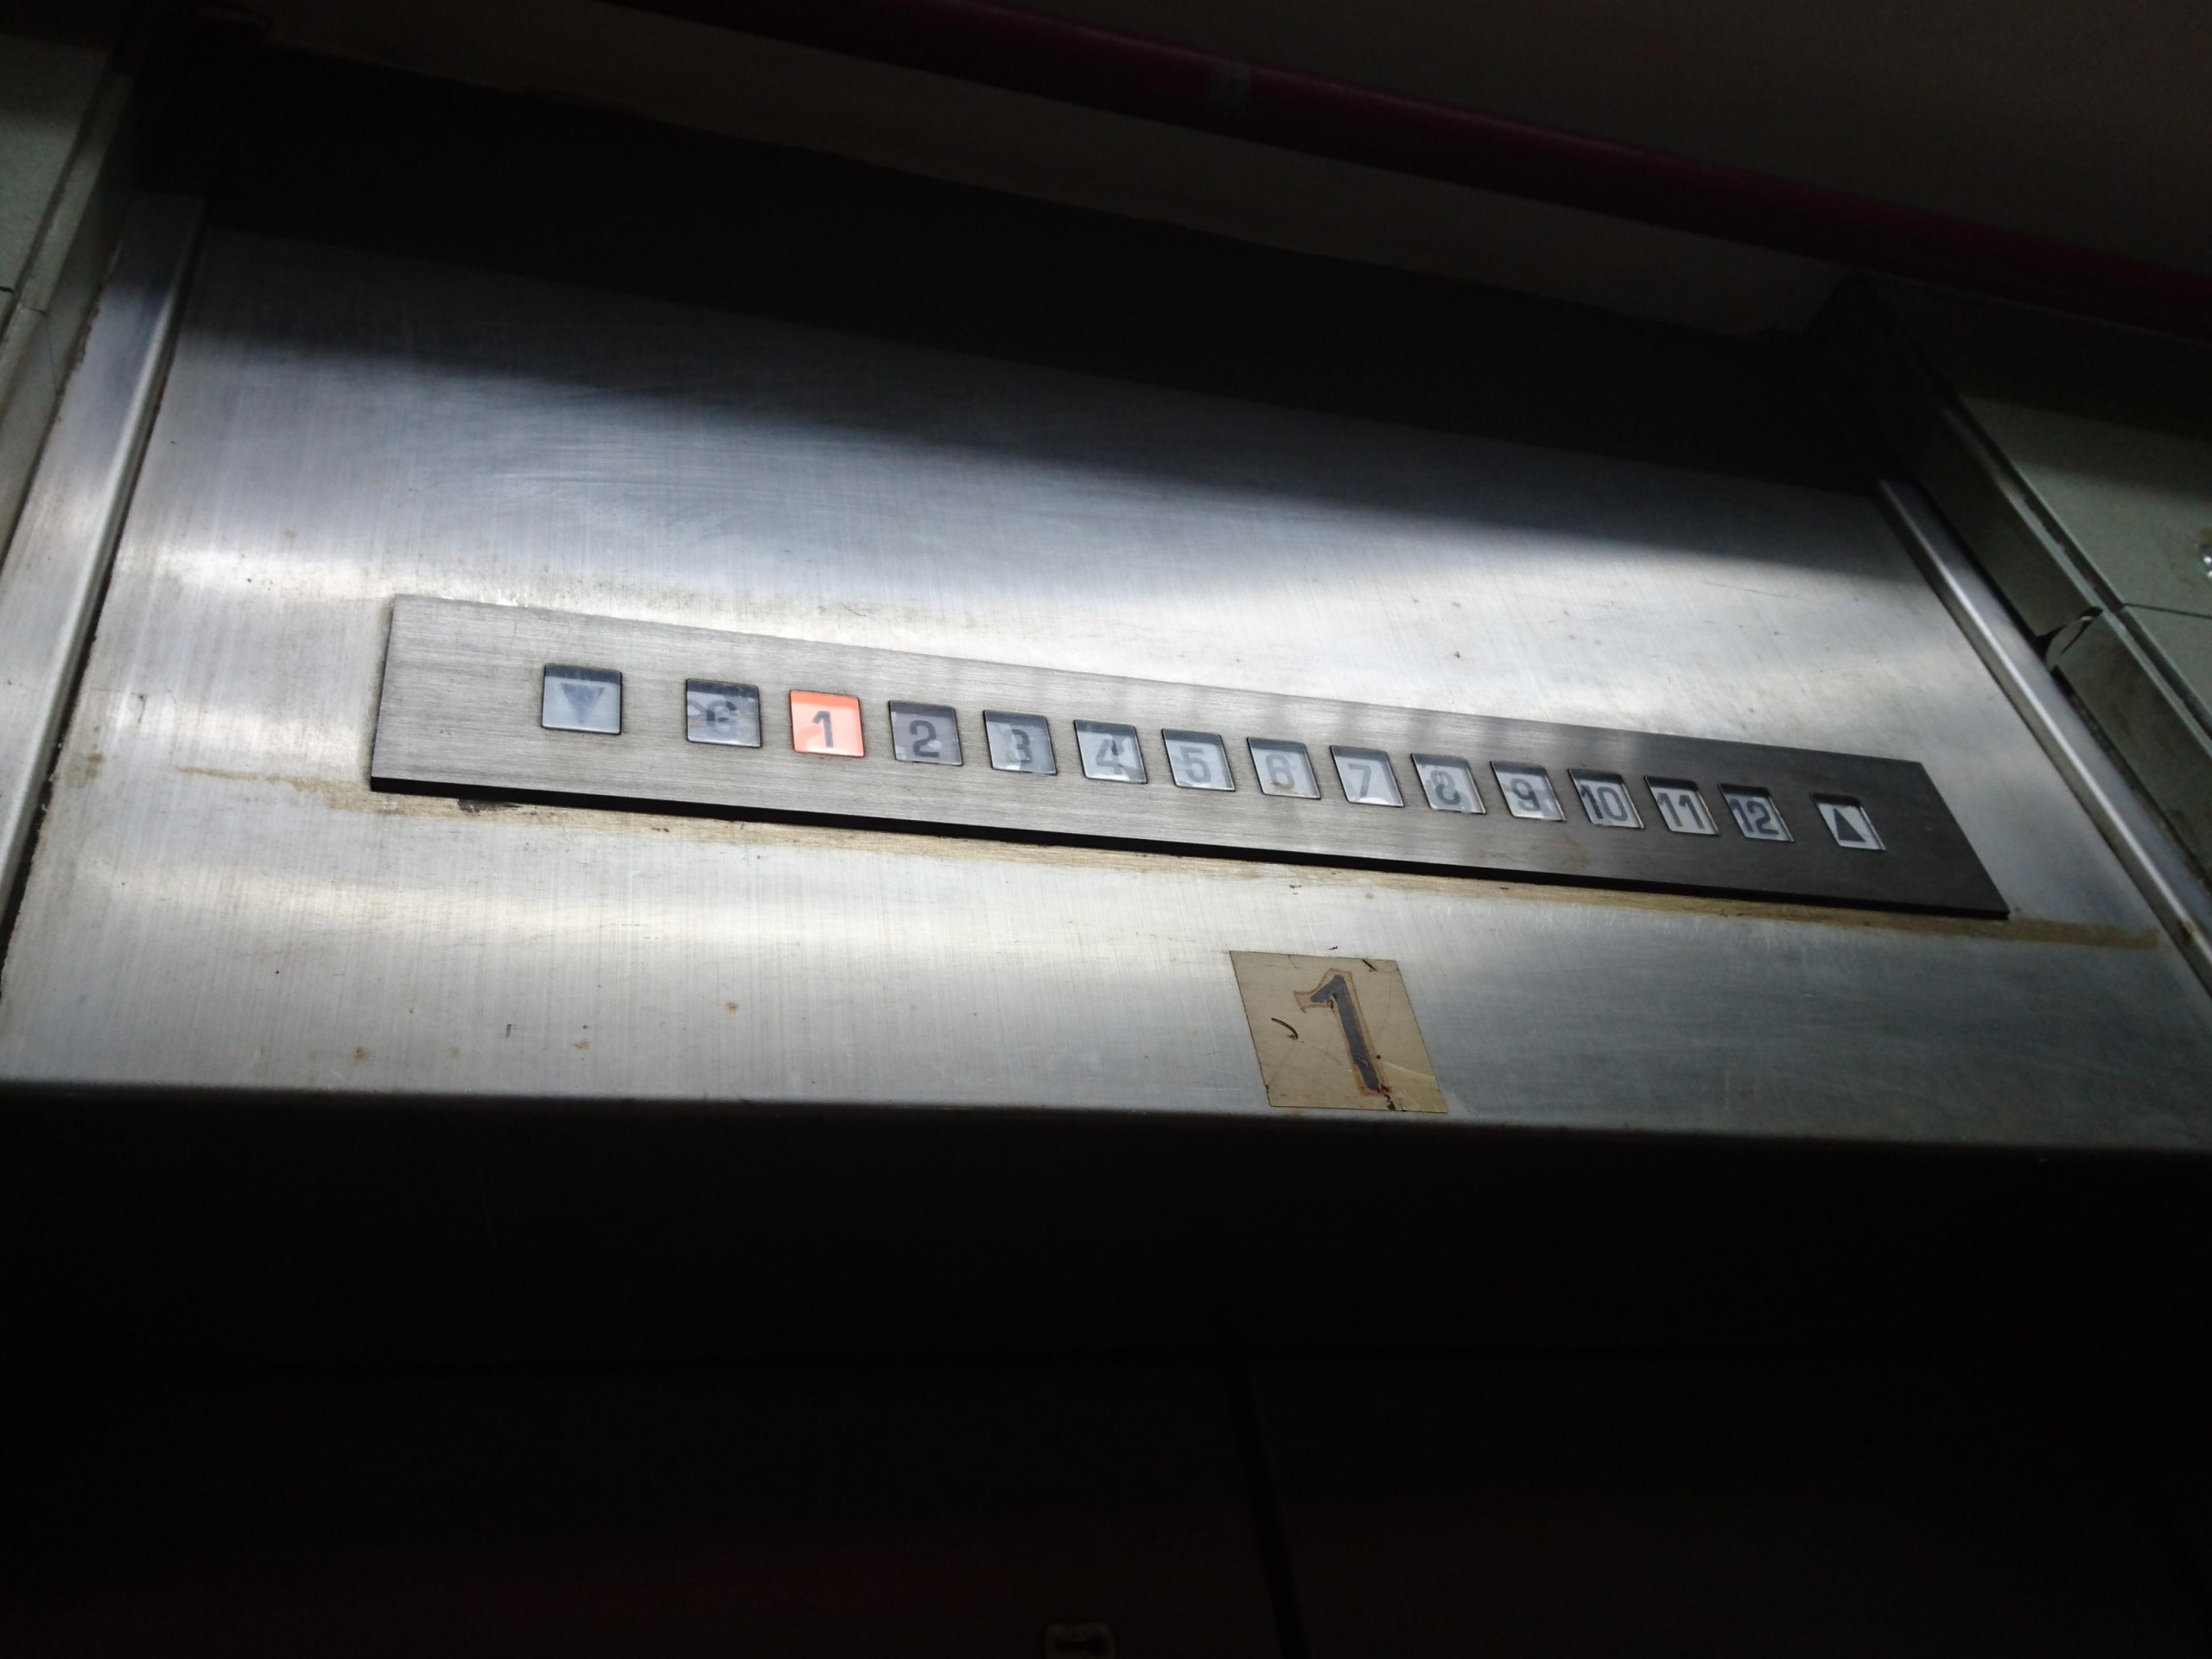1: (784, 683, 867, 763)
10: (1566, 763, 1644, 833)
11: (1644, 770, 1721, 840)
12: (1719, 779, 1797, 845)
2: (885, 695, 967, 774)
3: (977, 702, 1061, 782)
4: (1069, 713, 1151, 791)
5: (1158, 725, 1237, 795)
6: (1244, 732, 1322, 802)
7: (1327, 739, 1406, 809)
8: (1409, 748, 1487, 817)
9: (1487, 755, 1566, 826)
G: (678, 671, 765, 751)
down: (536, 655, 627, 737)
up: (1806, 786, 1885, 852)
